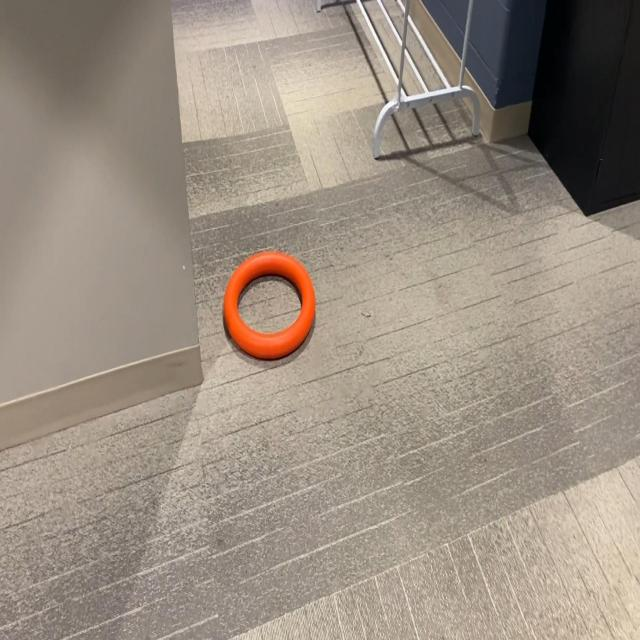note: (222, 247, 319, 361)
